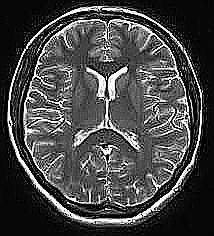Normal_Brain: (3, 3, 214, 236)
